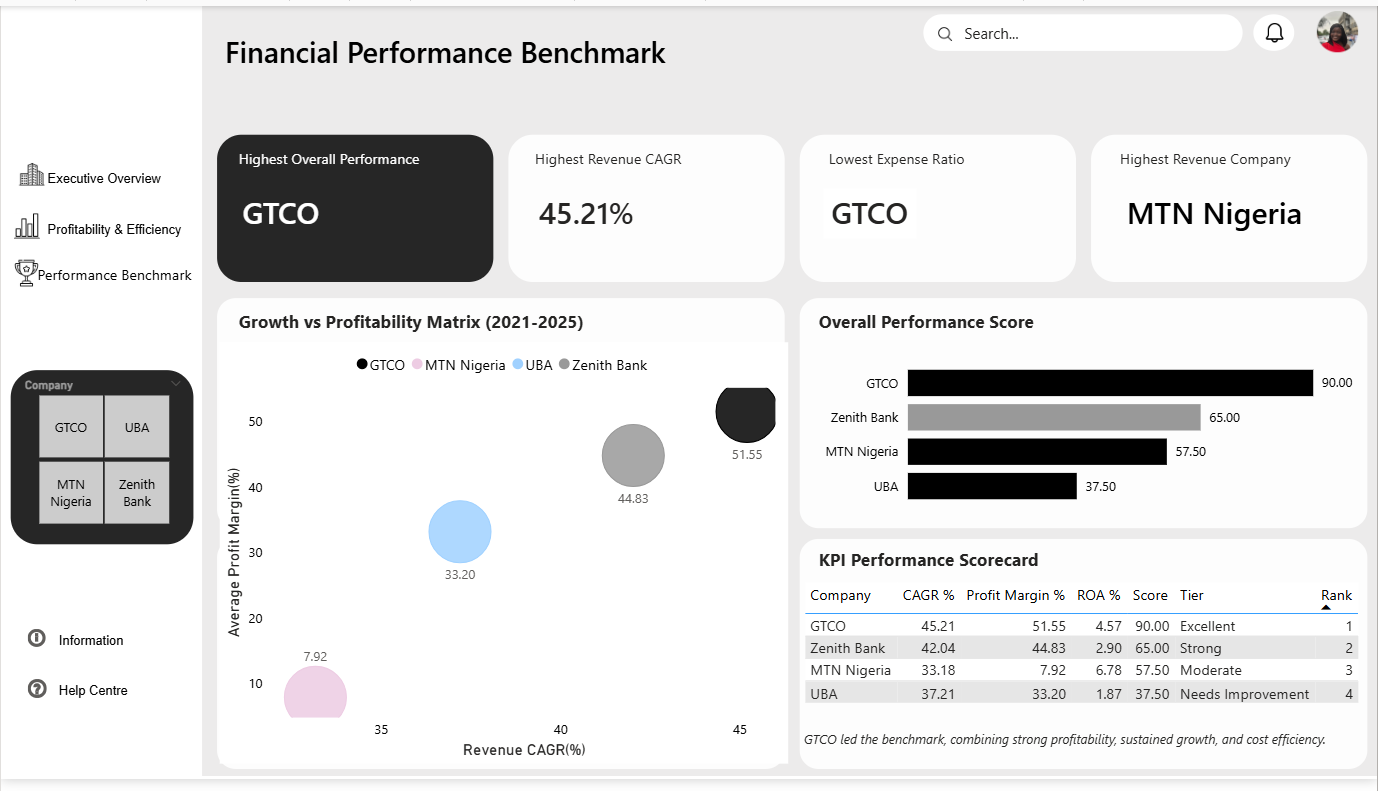

This screenshot's page, from the dashboard's own definition file:
{"tool":"powerbi","page":{"name":"Page 3","canvas":[1280,720],"ordinal":2},"visuals":[{"type":"card","fields":{"Values":["Measures (2).Top Performing Company"]},"box":[216.3,169.8,88.4,46.5],"z":0},{"type":"textbox","box":[216.3,127.9,233.7,33.7],"z":1000},{"type":"card","fields":{"Values":["Measures (2).Highest Revenue CAGR"]},"box":[491.9,169.8,105.8,46.5],"z":2000},{"type":"textbox","box":[491.9,127.9,226.7,33.7],"z":3000},{"type":"card","fields":{"Values":["Measures (2).Most Efficient Company"]},"box":[765.1,169.8,86,46.5],"z":4000},{"type":"textbox","box":[765.1,127.9,225.6,33.7],"z":5000},{"type":"card","fields":{"Values":["Measures (2).Highest Market Share Company"]},"box":[1036,169.8,186,46.5],"z":6000},{"type":"textbox","box":[1036,127.9,226.7,33.7],"z":7000},{"type":"clusteredBarChart","fields":{"Category":["scorecard.company"],"Y":["Sum(scorecard.weighted_score)"]},"box":[755.8,312.8,507,165.1],"z":8000},{"type":"textbox","box":[755.8,276.7,507,36],"z":9000},{"type":"tableEx","fields":{"Values":["scorecard.company","Sum(scorecard.revenue_cagr)","scorecard.avg_profit_margin","scorecard.avg_roa","scorecard.weighted_score","scorecard.performance_tier","Sum(scorecard.final_rank)"]},"box":[741.9,531.4,538.4,136],"z":10000},{"type":"textbox","box":[741.9,667.4,520.9,37.2],"z":11000},{"type":"textbox","box":[755.8,498.8,516.3,32.6],"z":12000},{"type":"scatterChart","fields":{"X":["Sum(scorecard.revenue_cagr)"],"Y":["scorecard.avg_profit_margin"],"Series":["scorecard.company"],"Size":["CountNonNull(scorecard.weighted_score)"]},"box":[203.5,312.8,529.1,391.9],"z":13000},{"type":"textbox","box":[216.3,276.7,516.3,36],"z":14000},{"type":"textbox","box":[203.5,19.8,581.4,48.8],"z":15000},{"type":"slicer","fields":{"Values":["scorecard.company"]},"box":[9.3,340.7,170.9,147.7],"z":16000},{"type":"textbox","box":[38.4,193,153.5,31.4],"z":17000},{"type":"textbox","box":[48.8,575.6,131.4,32.6],"z":18000},{"type":"textbox","box":[851.2,10.5,307,33.7],"z":19000},{"type":"image","box":[866.3,19.8,23.3,12.8],"z":20000},{"type":"image","box":[1174.4,10.5,20.9,29.1],"z":21000},{"type":"image","box":[9.3,145.3,39.5,24.4],"z":22000},{"type":"image","box":[9.3,193,29.1,23.3],"z":23000},{"type":"image","box":[9.3,236,29.1,24.4],"z":24000},{"type":"actionButton","box":[20.9,575.6,27.9,24.4],"z":25000},{"type":"actionButton","box":[20.9,622.1,27.9,25.6],"z":26000},{"type":"textbox","box":[38.4,145.3,153.5,37.2],"z":27000},{"type":"textbox","box":[29.1,236,187.2,32.6],"z":28000},{"type":"textbox","box":[48.8,622.1,91.9,34.9],"z":29000},{"type":"actionButton","box":[29.1,236,151.2,32.6],"z":30000},{"type":"actionButton","box":[38.7,192.4,131.4,31.7],"z":31000},{"type":"actionButton","box":[41.1,150.2,118.5,32.9],"z":32000},{"type":"image","box":[1222.7,4.7,39.9,38.7],"z":33000}]}

Visuals, with their boxes on the page's 1280x720 design canvas (x1, y1, x2, y2). These are canvas units, not pixel positions in the 1378x791 screenshot, which may show the page scaled, cropped or inside an application window:
card - Measures (2).Top Performing Company: detection(216, 170, 305, 216)
textbox: detection(216, 128, 450, 162)
card - Measures (2).Highest Revenue CAGR: detection(492, 170, 598, 216)
textbox: detection(492, 128, 719, 162)
card - Measures (2).Most Efficient Company: detection(765, 170, 851, 216)
textbox: detection(765, 128, 991, 162)
card - Measures (2).Highest Market Share Company: detection(1036, 170, 1222, 216)
textbox: detection(1036, 128, 1263, 162)
clusteredBarChart - scorecard.company x Sum(scorecard.weighted_score): detection(756, 313, 1263, 478)
textbox: detection(756, 277, 1263, 313)
tableEx - scorecard.company x Sum(scorecard.revenue_cagr): detection(742, 531, 1280, 667)
textbox: detection(742, 667, 1263, 705)
textbox: detection(756, 499, 1272, 531)
scatterChart - Sum(scorecard.revenue_cagr) x scorecard.avg_profit_margin: detection(204, 313, 733, 705)
textbox: detection(216, 277, 733, 313)
textbox: detection(204, 20, 785, 69)
slicer - scorecard.company: detection(9, 341, 180, 488)
textbox: detection(38, 193, 192, 224)
textbox: detection(49, 576, 180, 608)
textbox: detection(851, 10, 1158, 44)
image: detection(866, 20, 890, 33)
image: detection(1174, 10, 1195, 40)
image: detection(9, 145, 49, 170)
image: detection(9, 193, 38, 216)
image: detection(9, 236, 38, 260)
actionButton: detection(21, 576, 49, 600)
actionButton: detection(21, 622, 49, 648)
textbox: detection(38, 145, 192, 182)
textbox: detection(29, 236, 216, 269)
textbox: detection(49, 622, 141, 657)
actionButton: detection(29, 236, 180, 269)
actionButton: detection(39, 192, 170, 224)
actionButton: detection(41, 150, 160, 183)
image: detection(1223, 5, 1263, 43)
